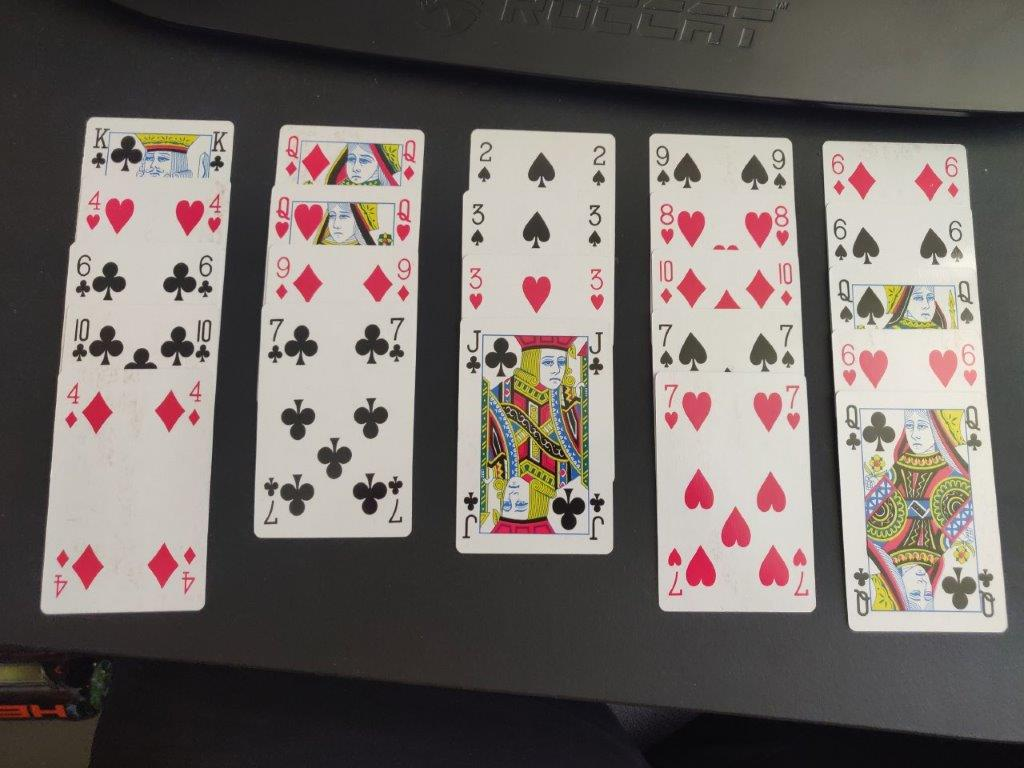10C: (194, 316, 214, 368), (69, 314, 88, 364)
10D: (774, 258, 796, 308), (654, 257, 676, 304)
2S: (590, 143, 610, 190), (474, 140, 495, 184)
3H: (586, 266, 606, 315), (467, 267, 486, 310)
3S: (584, 201, 605, 251), (469, 200, 488, 250)
4D: (187, 376, 205, 429), (65, 381, 81, 434)
4H: (84, 187, 104, 234), (206, 191, 225, 237)
6C: (196, 253, 215, 304), (73, 252, 92, 299)
6D: (827, 151, 847, 197), (943, 155, 962, 202)
6H: (959, 342, 980, 392), (838, 341, 859, 389)
6S: (829, 215, 850, 263), (947, 218, 966, 264)
7C: (264, 315, 286, 370), (388, 315, 408, 365)
7H: (658, 380, 682, 434), (783, 381, 803, 437)
7S: (776, 323, 799, 370), (654, 322, 676, 369)
8H: (655, 202, 677, 246), (772, 203, 792, 248)
9D: (393, 256, 414, 303), (272, 255, 291, 302)
9S: (651, 142, 673, 190), (769, 147, 789, 193)
JC: (586, 330, 609, 377), (463, 328, 483, 377)
KC: (89, 122, 111, 171), (208, 128, 228, 176)
QC: (839, 402, 863, 453), (962, 404, 986, 454)
QD: (282, 134, 301, 179), (401, 137, 418, 184)
QH: (273, 196, 295, 242), (393, 197, 413, 246)
QS: (955, 275, 977, 328), (835, 276, 856, 325)
